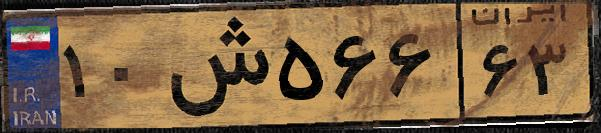0: (110, 28, 158, 98)
1: (57, 26, 110, 100)
3: (525, 38, 570, 115)
5: (270, 28, 330, 110)
6: (385, 28, 445, 110), (330, 28, 385, 110), (475, 38, 525, 113)
ش: (158, 12, 270, 120)
